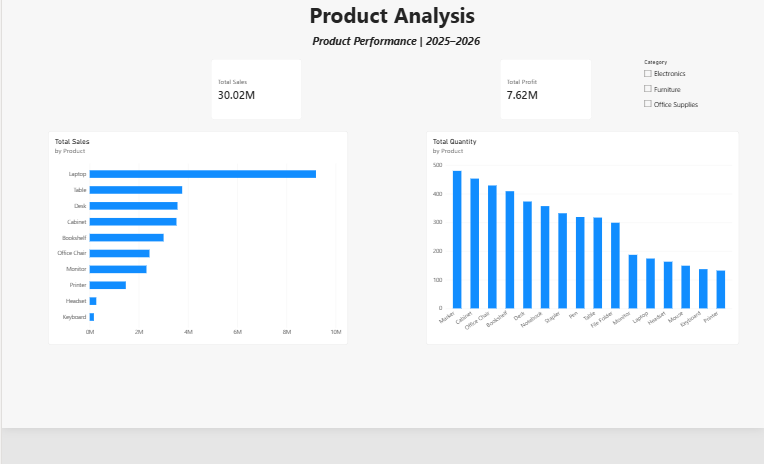

What the dashboard file says about the page in this screenshot:
{"tool":"powerbi","page":{"name":"Product Analysis","canvas":[1920,1080],"ordinal":1},"visuals":[{"type":"textbox","box":[330.1,83.1,1325.4,65.5],"z":0},{"type":"cardVisual","fields":{"Data":["DateTable.Total Sales"]},"box":[526.6,148.7,229.3,153.7],"z":1},{"type":"cardVisual","fields":{"Data":["DateTable.Total Profit"]},"box":[1254.8,148.7,231.8,153.7],"z":2},{"type":"clusteredBarChart","fields":{"Category":["Sales.Product"],"Y":["DateTable.Total Sales"]},"box":[115.9,330.1,755.9,539.2],"z":3},{"type":"clusteredColumnChart","fields":{"Category":["Sales.Product"],"Y":["DateTable.Total Quantity"]},"box":[1068.3,330.1,789,539],"z":4},{"type":"slicer","fields":{"Values":["Sales.Category"]},"box":[907.1,869.3,168.8,136.1],"z":5},{"type":"textbox","box":[440.9,0,1083.5,83.1],"z":6}]}

Visuals, with their boxes on the page's 1920x1080 design canvas (x1, y1, x2, y2). These are canvas units, not pixel positions in the 764x464 screenshot, which may show the page scaled, cropped or inside an application window:
textbox: bbox=[330, 83, 1656, 149]
cardVisual - DateTable.Total Sales: bbox=[527, 149, 756, 302]
cardVisual - DateTable.Total Profit: bbox=[1255, 149, 1487, 302]
clusteredBarChart - Sales.Product x DateTable.Total Sales: bbox=[116, 330, 872, 869]
clusteredColumnChart - Sales.Product x DateTable.Total Quantity: bbox=[1068, 330, 1857, 869]
slicer - Sales.Category: bbox=[907, 869, 1076, 1005]
textbox: bbox=[441, 0, 1524, 83]
